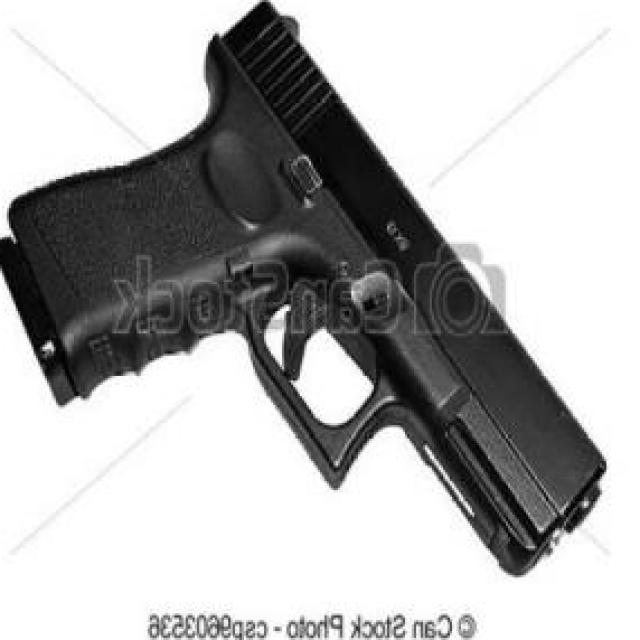pistol: (0, 0, 607, 593)
